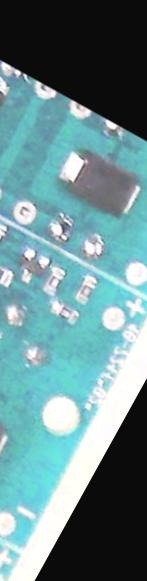chip-resistor: (38, 261, 69, 299), (45, 296, 83, 326), (71, 272, 101, 308)
diode: (49, 138, 147, 223)
transistor: (9, 243, 53, 289)
